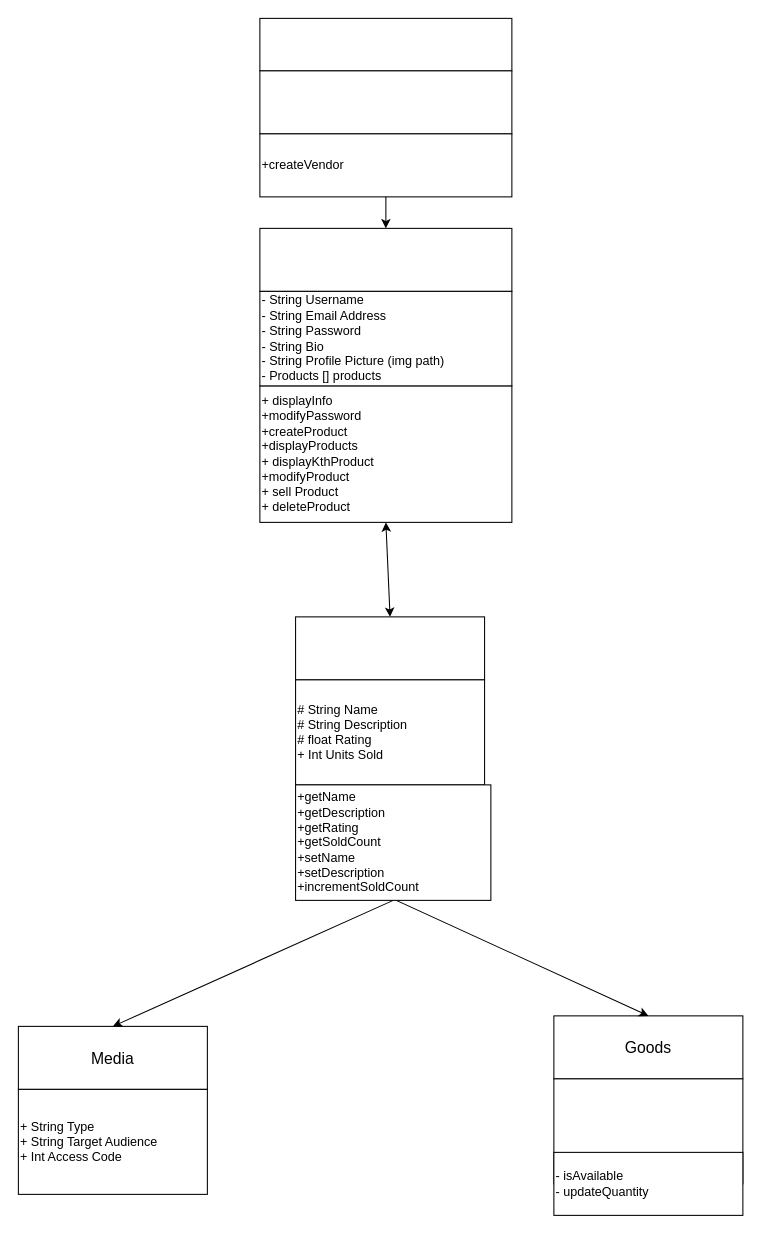
This 761x1234 diagram has some shape labels left out. Here are the shapes that lost their labels. From the top down, the box of each, then its label:
(259, 17, 512, 71): Amazon
(259, 70, 512, 134): - vendor Vendor
(259, 227, 512, 291): Vendor
(295, 616, 485, 680): Product
(553, 1078, 743, 1184): + String Expiration Date + Int Quantity
